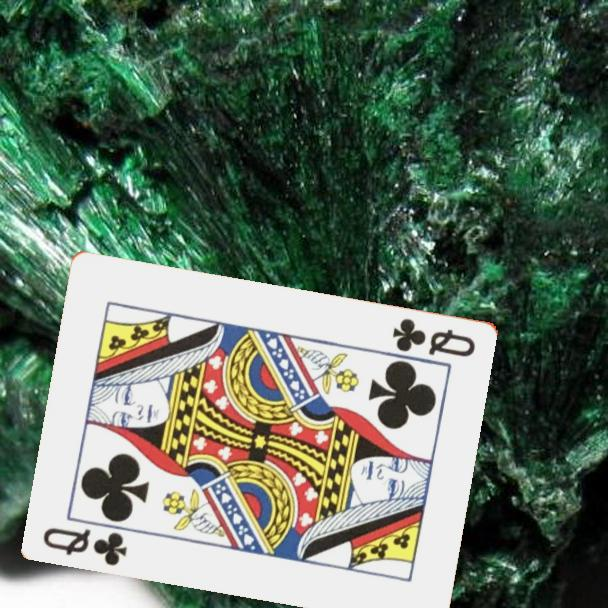c12: (389, 314, 479, 360), (40, 523, 131, 568)
